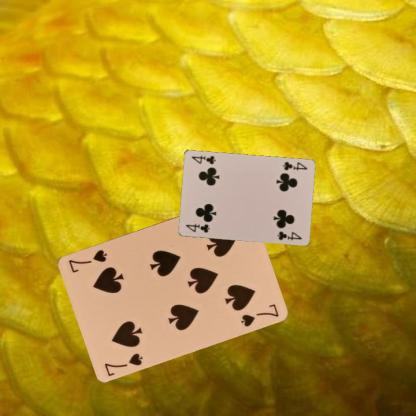4c: (183, 221, 211, 234), (280, 160, 308, 172)
7s: (102, 350, 144, 377)
